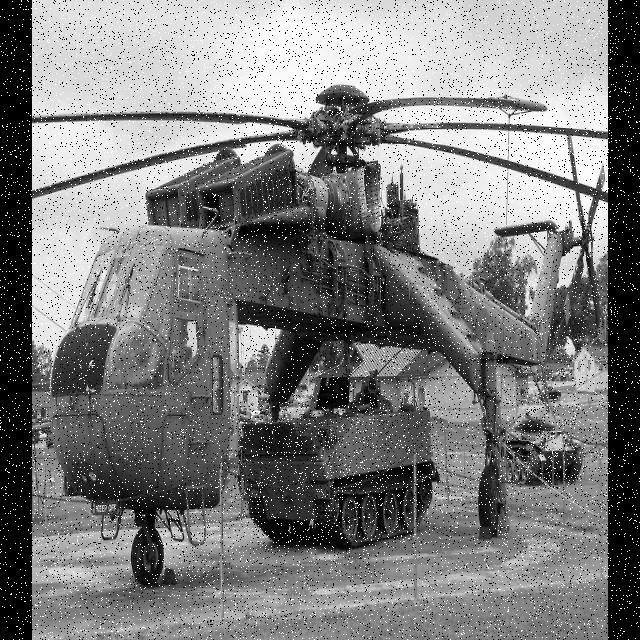MIL_MBT: (240, 393, 437, 543), (507, 398, 583, 490)
